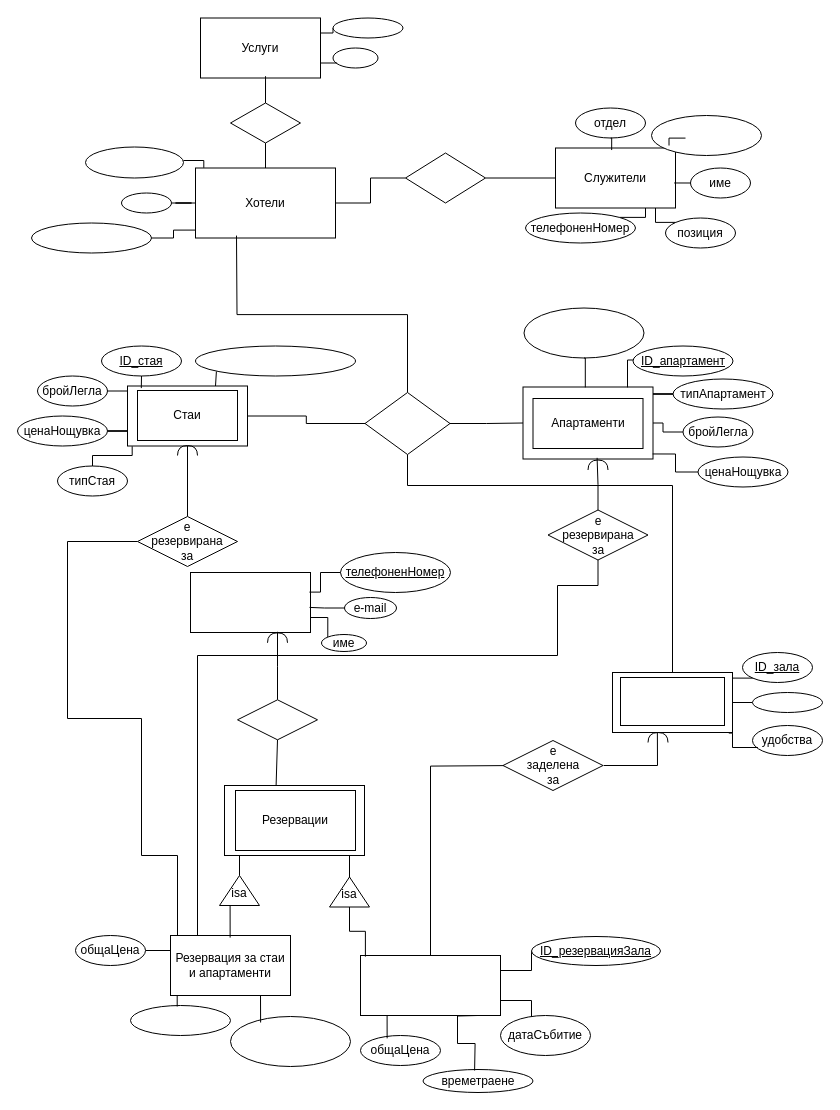
Some shapes in this 840 by 1110 pixel diagram are drawn without their labels. Here are the shapes that lost their labels. From the top down, the centre of each, then its label:
(367,27): типУслуга
(355,57): цена
(265,122): предлага
(706,135): служебенНомер
(134,162): имеНаХотела
(445,177): наема
(146,202): адрес
(91,237): географскиРайон
(583,332): основни и допълнителни удобства
(275,360): допълнителниУдобства
(407,423): съдържа
(250,602): Клиенти
(277,719): прави
(672,701): Зали за събития
(787,702): капацитет
(430,985): Резервация за зали за събития
(180,1020): ID_резервация
(290,1041): датаНастаняване и датаНапускане
